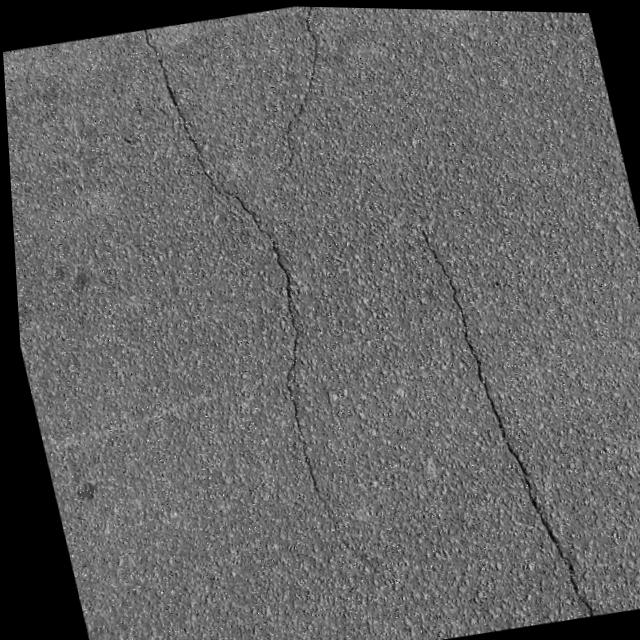Crack: (127, 2, 436, 545), (405, 186, 596, 628)
